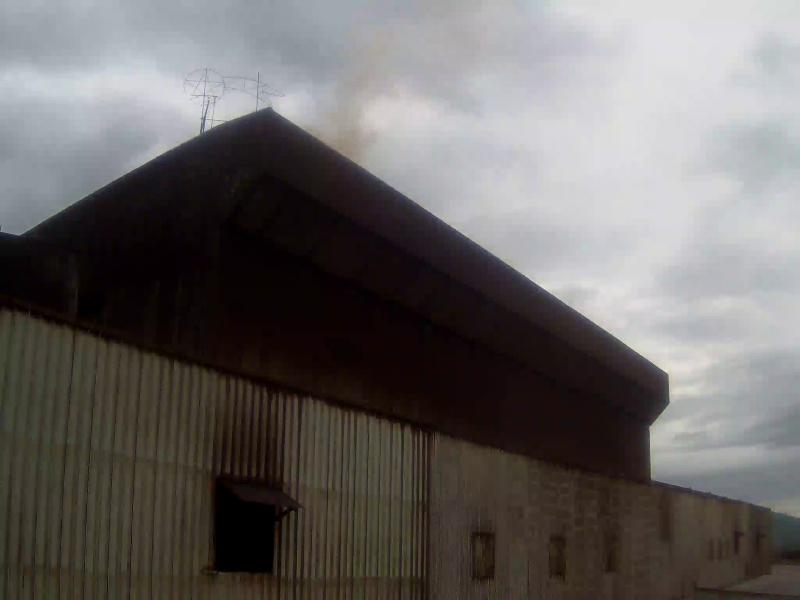bom: (21, 51, 271, 162), (589, 284, 751, 455)
ruim: (278, 1, 699, 388)
